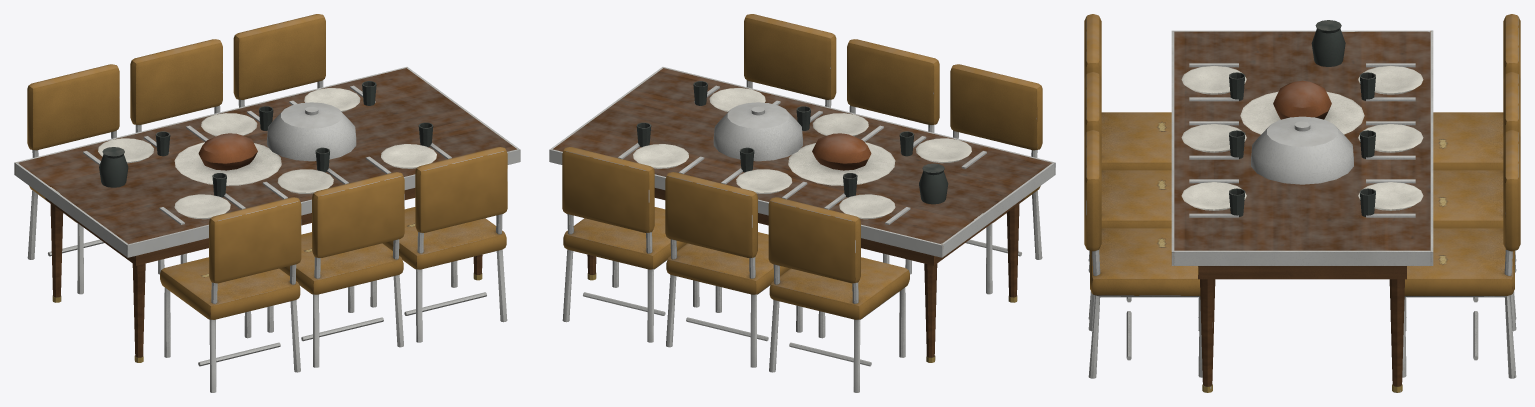
The model's file is H_DiningSet.fbx.
3 renders of one model, left to right at view 1: azimuth 30°, elevation 25°; view 2: azimuth 150°, elevation 25°; view 3: azimuth 270°, elevation 25°, orthographic. The views are drawn at different scales.
Parts seen in each view (by area): view 1: H_DiningSet__H_DiningTable, H_DiningSet__H_TableSetting, H_DiningSet__H_DiningChair, H_DiningSet__H_DiningChair.004, H_DiningSet__H_DiningChair.002, H_DiningSet__H_DiningChair.001, H_DiningSet__H_DiningChair.003, H_DiningSet__H_DiningChair.005; view 2: H_DiningSet__H_DiningTable, H_DiningSet__H_TableSetting, H_DiningSet__H_DiningChair.001, H_DiningSet__H_DiningChair.005, H_DiningSet__H_DiningChair.003, H_DiningSet__H_DiningChair, H_DiningSet__H_DiningChair.002, H_DiningSet__H_DiningChair.004; view 3: H_DiningSet__H_DiningTable, H_DiningSet__H_TableSetting, H_DiningSet__H_DiningChair.004, H_DiningSet__H_DiningChair.005, H_DiningSet__H_DiningChair.002, H_DiningSet__H_DiningChair.003, H_DiningSet__H_DiningChair, H_DiningSet__H_DiningChair.001.
Part boxes in pixels (x1,y1,x2,y2): H_DiningSet__H_DiningTable: [14, 67, 520, 362]; H_DiningSet__H_TableSetting: [83, 81, 451, 224]; H_DiningSet__H_DiningChair: [160, 197, 301, 392]; H_DiningSet__H_DiningChair.004: [370, 147, 507, 342]; H_DiningSet__H_DiningChair.002: [267, 172, 404, 367]; H_DiningSet__H_DiningChair.001: [27, 64, 164, 294]; H_DiningSet__H_DiningChair.003: [130, 39, 222, 263]; H_DiningSet__H_DiningChair.005: [233, 14, 325, 107]; H_DiningSet__H_DiningTable: [549, 67, 1055, 362]; H_DiningSet__H_TableSetting: [618, 81, 986, 224]; H_DiningSet__H_DiningChair.001: [768, 197, 909, 392]; H_DiningSet__H_DiningChair.005: [562, 147, 699, 342]; H_DiningSet__H_DiningChair.003: [665, 172, 802, 367]; H_DiningSet__H_DiningChair: [905, 64, 1042, 294]; H_DiningSet__H_DiningChair.002: [847, 39, 939, 263]; H_DiningSet__H_DiningChair.004: [744, 14, 836, 107]; H_DiningSet__H_DiningTable: [1171, 30, 1433, 392]; H_DiningSet__H_TableSetting: [1181, 20, 1423, 217]; H_DiningSet__H_DiningChair.004: [1084, 130, 1202, 378]; H_DiningSet__H_DiningChair.005: [1402, 130, 1520, 378]; H_DiningSet__H_DiningChair.002: [1084, 72, 1198, 319]; H_DiningSet__H_DiningChair.003: [1406, 72, 1520, 319]; H_DiningSet__H_DiningChair: [1084, 14, 1171, 261]; H_DiningSet__H_DiningChair.001: [1433, 14, 1520, 261].
Size of the model in its own units: 800 by 339 by 667.
Materials: 1 (1 with a texture image).
